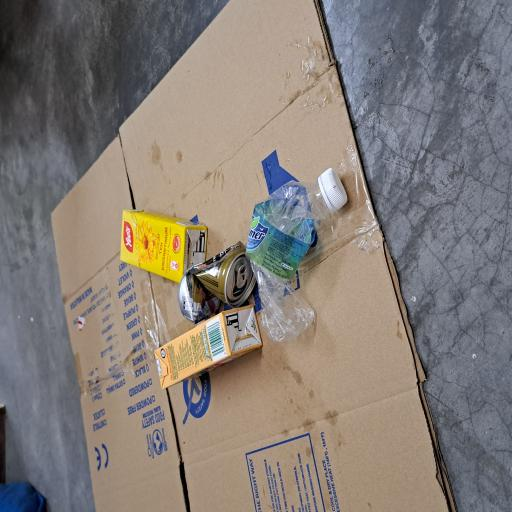can: (143, 240, 201, 339)
cardboard: (0, 67, 384, 512)
drink carton: (94, 209, 156, 352), (171, 158, 226, 274)
plastic bottle: (129, 333, 260, 468)
plastic bottle cap: (224, 420, 260, 467)
